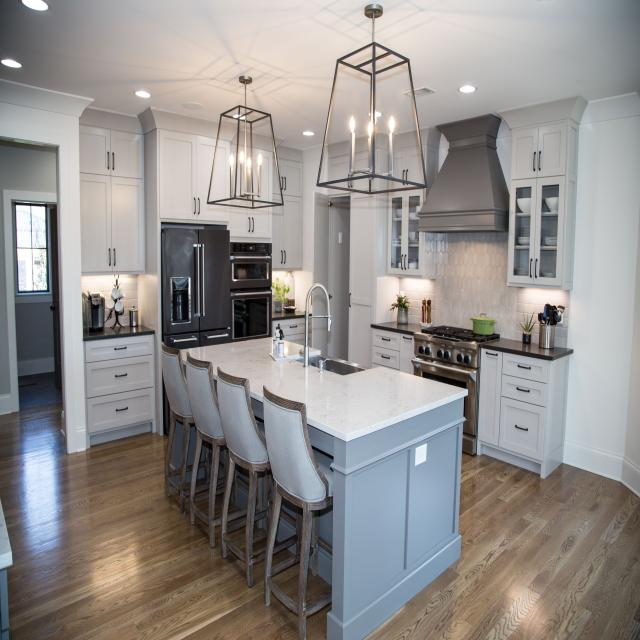Appliance_Fridge: (158, 221, 233, 354)
Appliance_Oven: (411, 327, 489, 456), (230, 242, 272, 290), (232, 296, 270, 340)
Appliance_Sink: (305, 283, 370, 376)
Cabinet_Glass: (507, 176, 565, 286), (390, 188, 427, 270)
Cabinet_Shaker: (157, 131, 304, 272), (478, 348, 554, 476), (81, 127, 145, 276), (84, 334, 154, 443), (348, 195, 377, 369), (512, 124, 573, 181), (370, 328, 414, 374), (393, 147, 424, 185), (387, 181, 417, 193)
Countertop_Marble: (188, 338, 469, 442)
Countertop_Solid_Surface: (482, 340, 576, 360), (83, 326, 154, 338), (370, 321, 421, 336), (269, 313, 310, 320)
